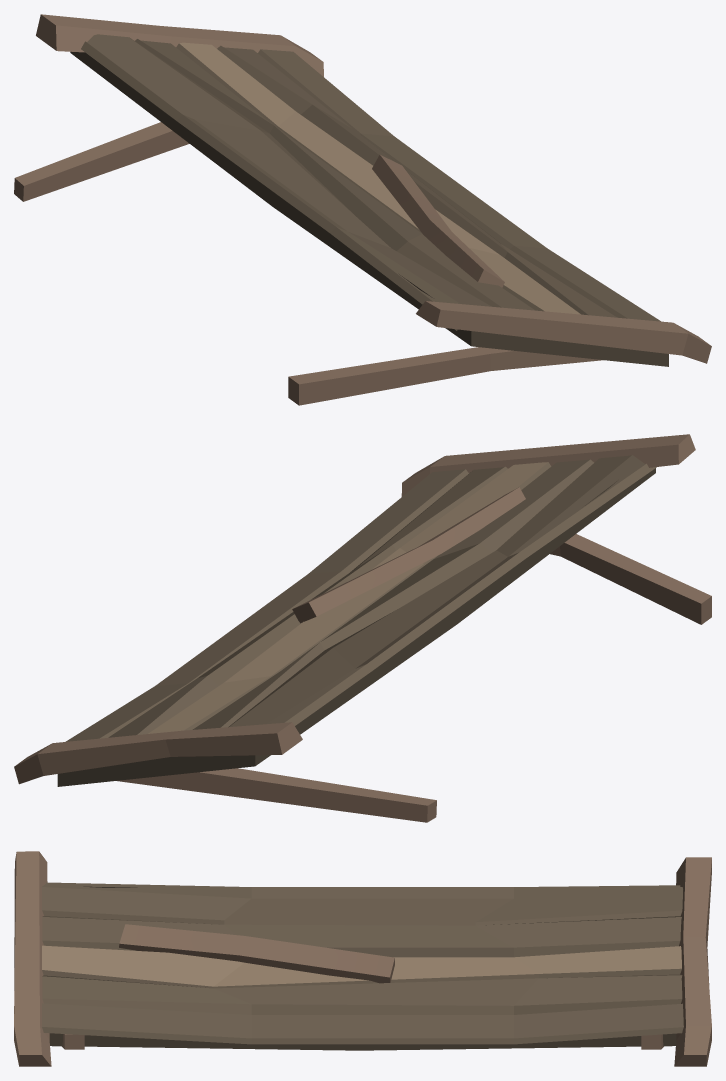
Rendered from SM_Bld_Shanty_Roof_05.fbx.
The picture shows the model from 3 angles, top to bottom: view 1: azimuth 30°, elevation 25°; view 2: azimuth 150°, elevation 25°; view 3: azimuth 270°, elevation 25°; orthographic projection. The views are drawn at different scales.
Parts seen in each view (by area): view 1: SM_Bld_Shanty_Roof_05; view 2: SM_Bld_Shanty_Roof_05; view 3: SM_Bld_Shanty_Roof_05.
Part boxes in pixels (box(x1,y1,x2,y2)): SM_Bld_Shanty_Roof_05: box(14, 14, 711, 405); SM_Bld_Shanty_Roof_05: box(14, 434, 711, 822); SM_Bld_Shanty_Roof_05: box(14, 851, 711, 1066).
Bounding box in the file's own units: 2.71 × 0.8807 × 5.4.
